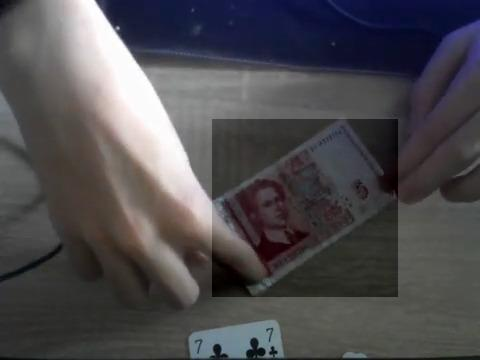5leva: (212, 119, 398, 297)
